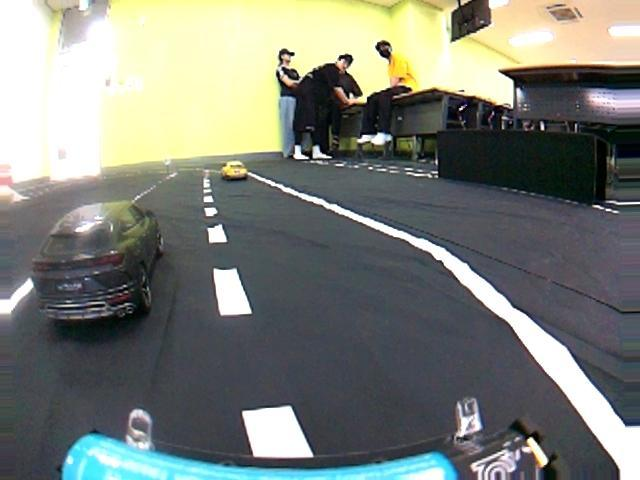car: (30, 198, 167, 321), (218, 159, 248, 182)
straight: (5, 219, 631, 473)
